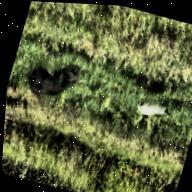boar: (21, 55, 87, 107)
